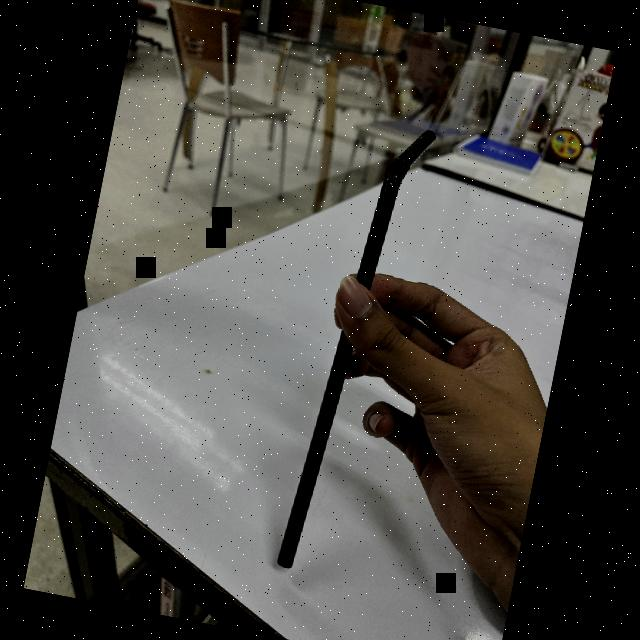straw: (260, 108, 448, 588)
